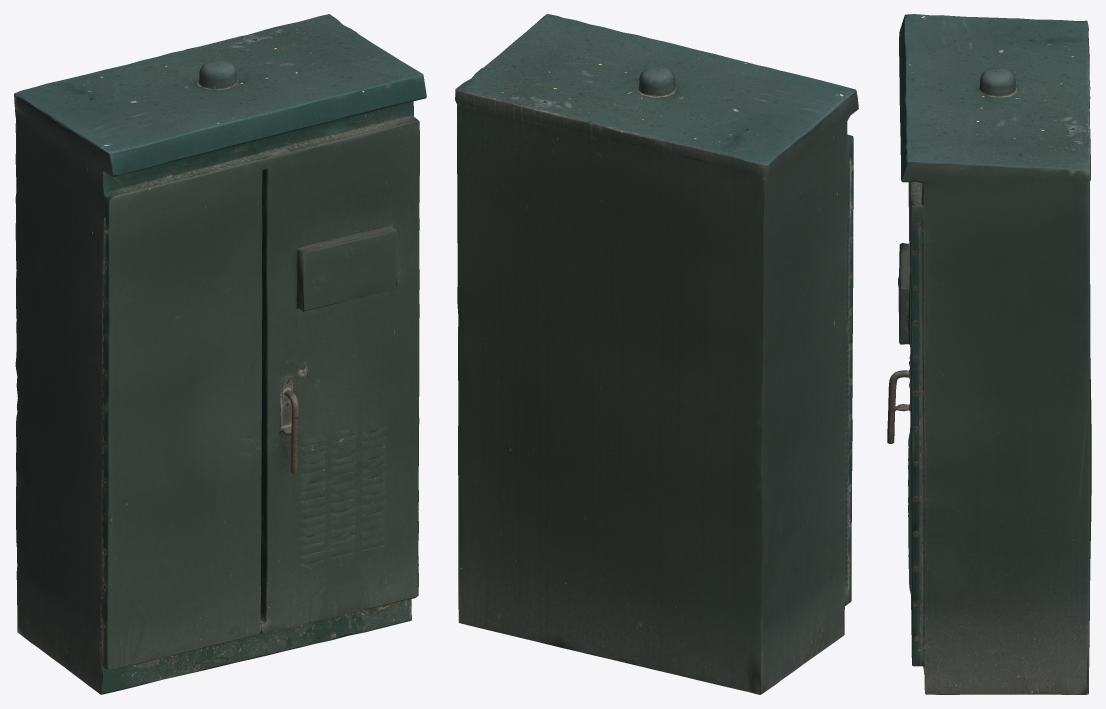
File: electric_box_40.glb
3 renders of one model, left to right at view 1: azimuth 30°, elevation 25°; view 2: azimuth 150°, elevation 25°; view 3: azimuth 270°, elevation 25°, orthographic. The views are drawn at different scales.
Visible parts, largest first — view 1: Aset_street__L_uh4ffdmga_LOD0; view 2: Aset_street__L_uh4ffdmga_LOD0; view 3: Aset_street__L_uh4ffdmga_LOD0.
Part boxes in pixels (x1=…): Aset_street__L_uh4ffdmga_LOD0: x1=14, y1=14, x2=426, y2=694; Aset_street__L_uh4ffdmga_LOD0: x1=455, y1=14, x2=858, y2=694; Aset_street__L_uh4ffdmga_LOD0: x1=887, y1=14, x2=1091, y2=694.
Bounding box in the file's own units: 0.935 × 1.6 × 0.5385.
1 material, 1 textured.
